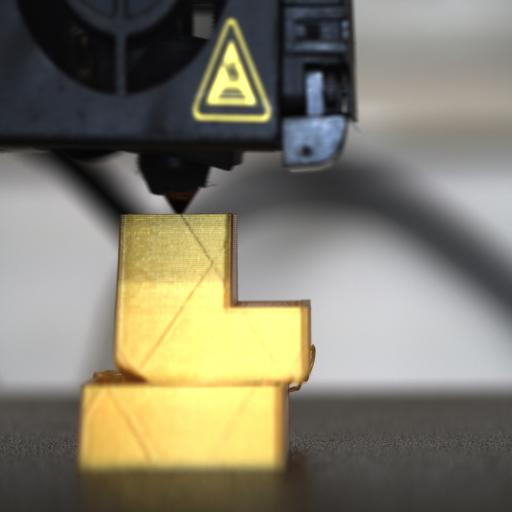layer_shift: (77, 358, 313, 394)
